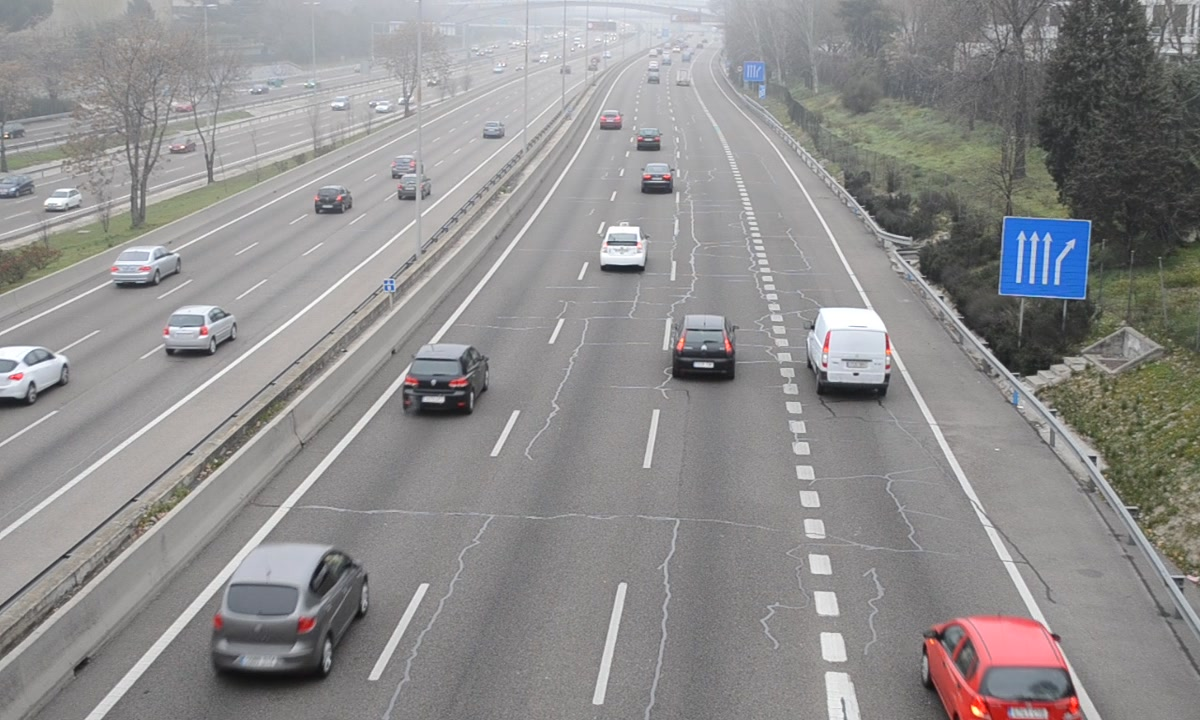car: (208, 544, 371, 682), (922, 615, 1086, 720), (400, 343, 489, 412), (673, 314, 735, 379), (599, 225, 648, 268), (640, 162, 676, 193), (635, 125, 662, 151), (600, 108, 622, 131)
van: (809, 307, 893, 393)
